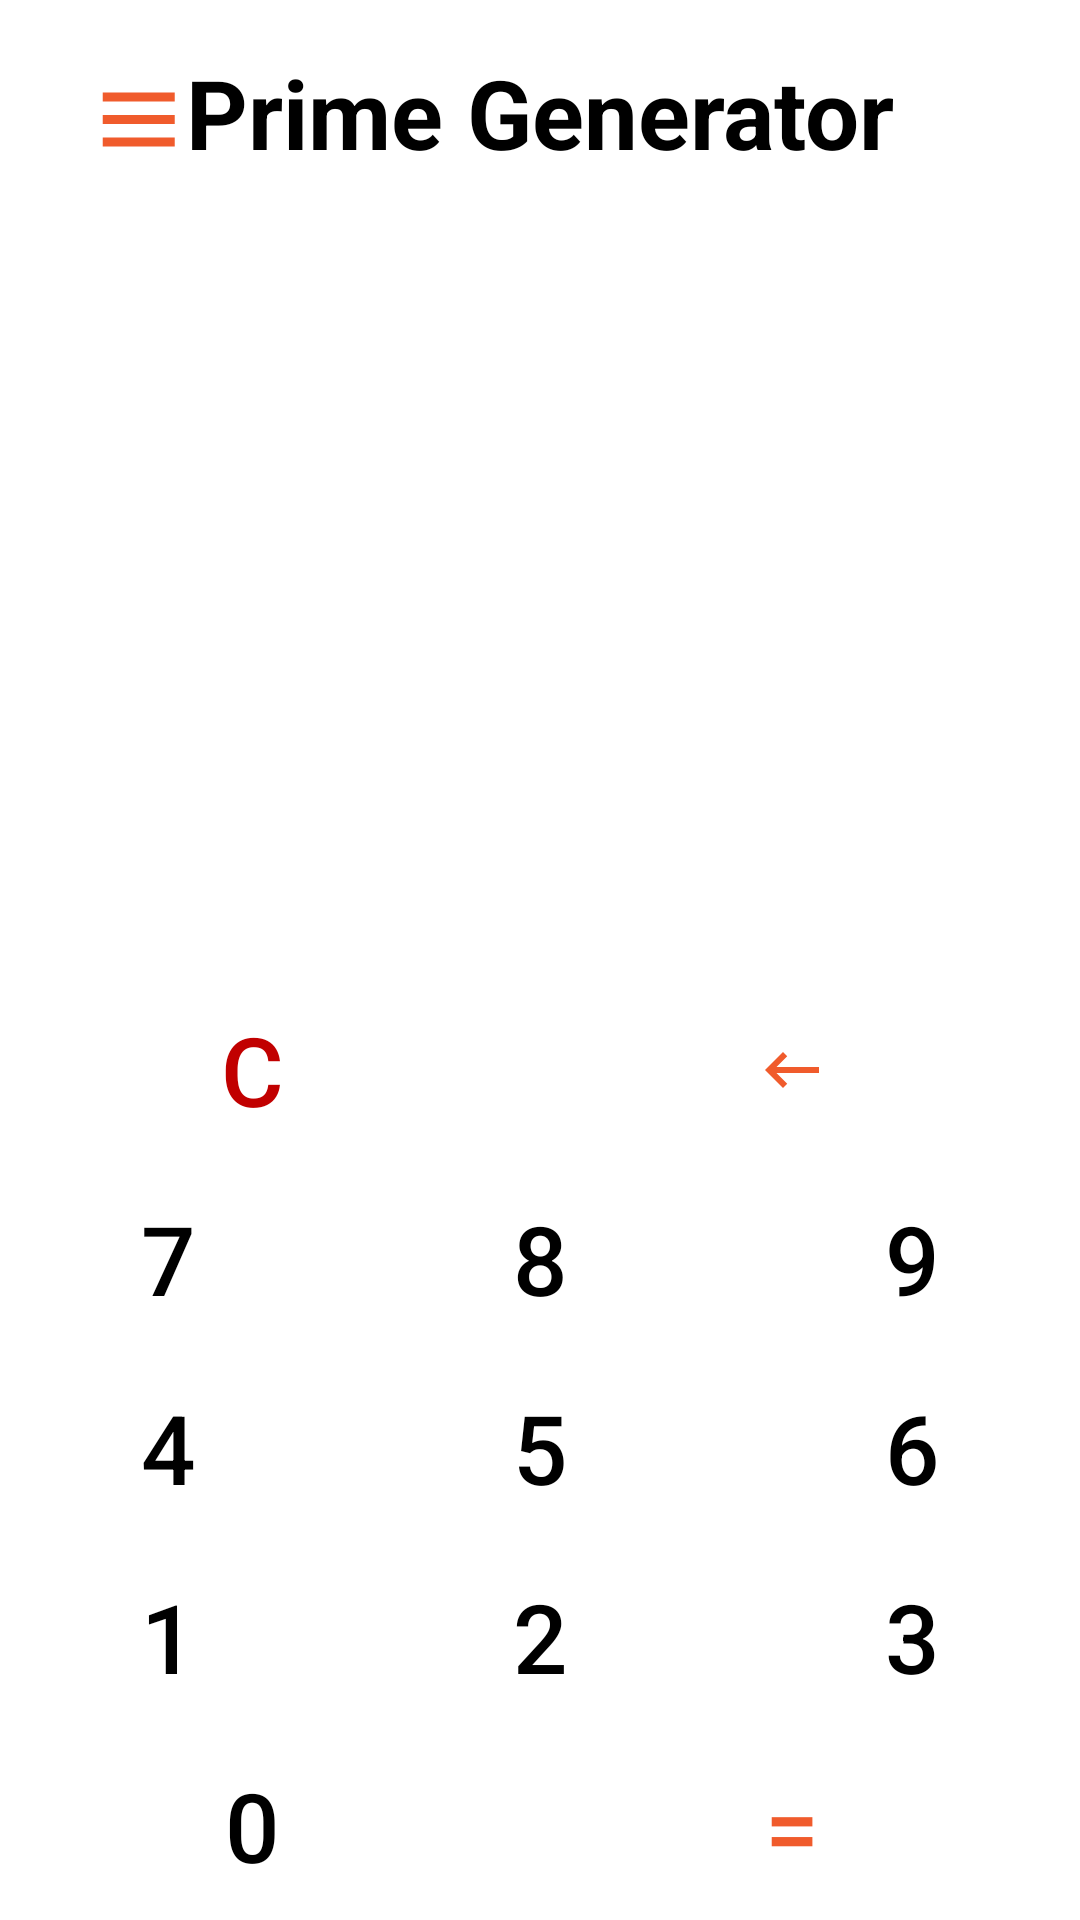

Icon bounding boxes for this 1080 x 1920 phone screenshot, format BBox(x1, y1, x2, y2):
backspace: BBox(765, 1052, 819, 1088)
menu: BBox(102, 92, 175, 147)
